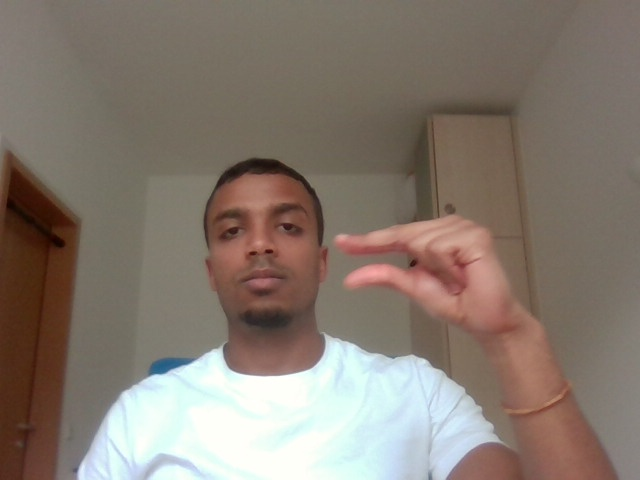never: (330, 205, 561, 355)
